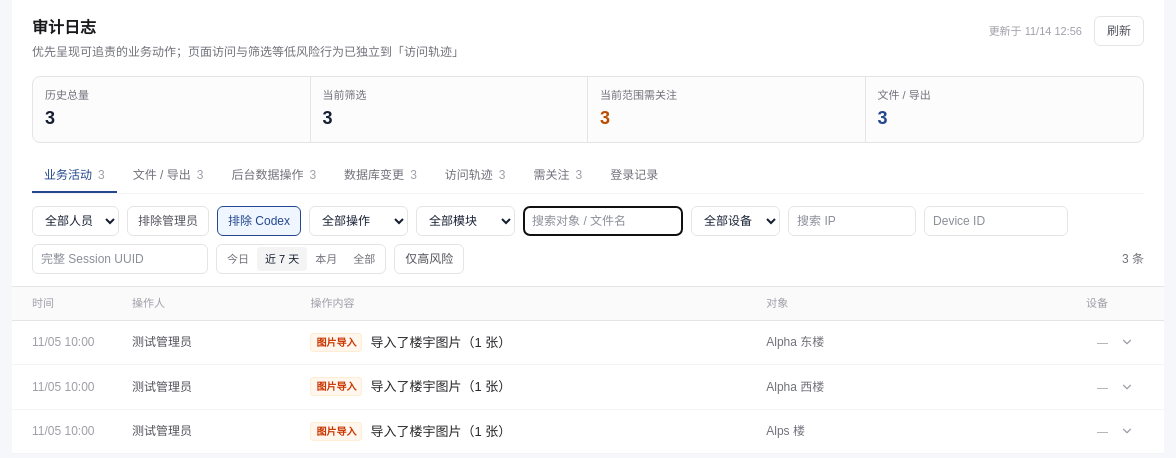
Test: coalesces rapid audit search edits and does not issue table reads during Chinese composition
Check: the text "Alpha 东楼" is shown, box [766,335,824,349]
Type "A" into the field with placeholder "搜索对象 / 文件名".
click(603, 220); type("A")  # box [523,206,683,236]
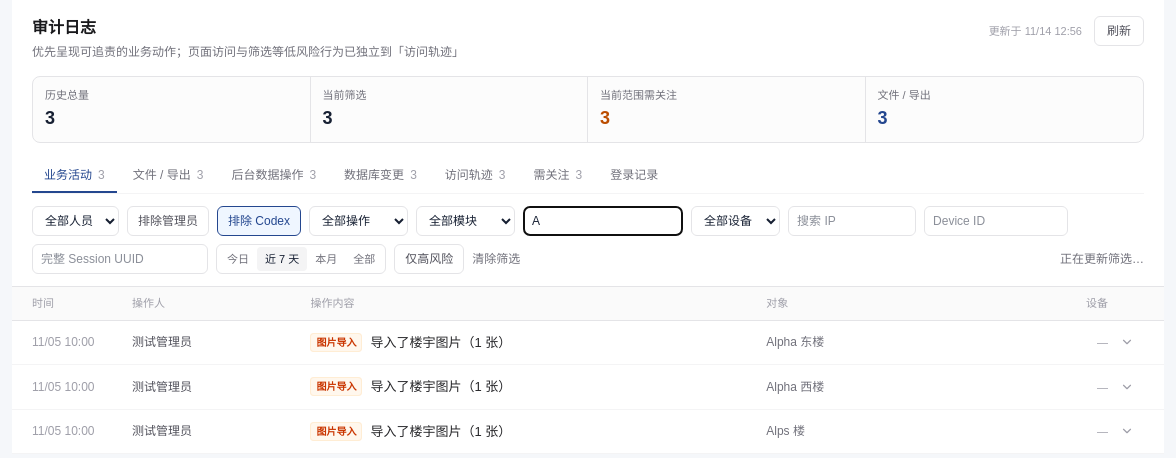
Replace the text in the field with placeholder "搜索对象 / 文件名" with "Al" at point(603, 220), box [523,206,683,236]
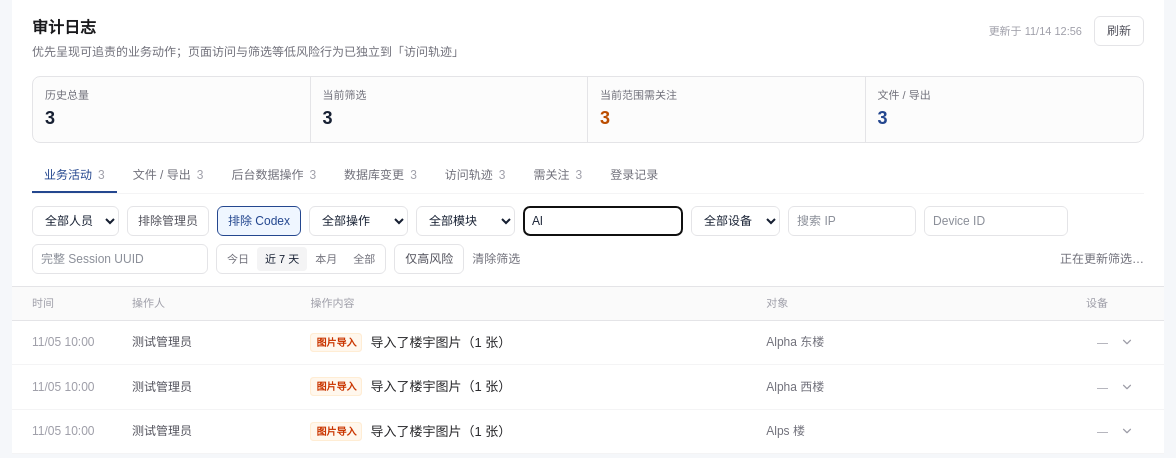
Replace the text in the field with placeholder "搜索对象 / 文件名" with "Alp" at point(603, 220), box [523,206,683,236]
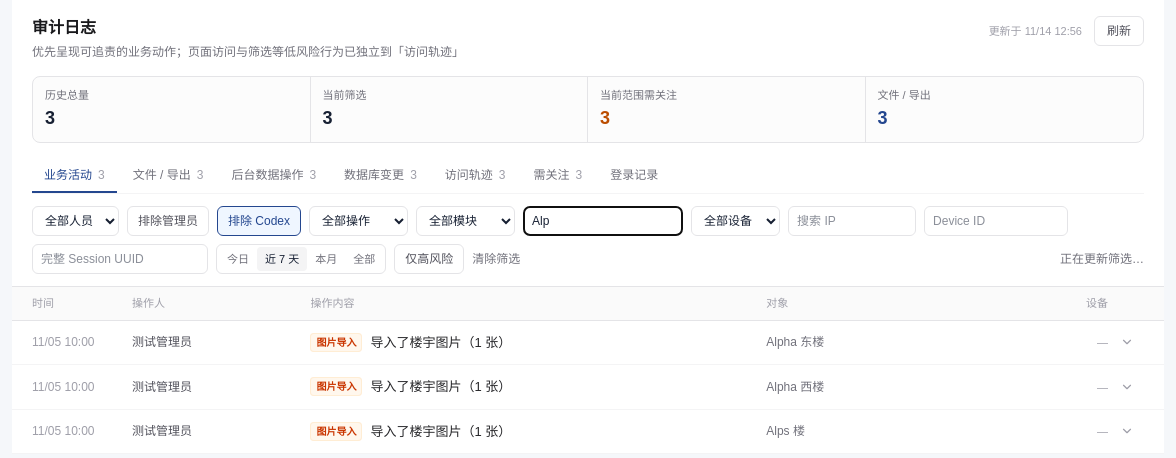
Replace the text in the field with placeholder "搜索对象 / 文件名" with "Alpha d" at point(603, 220), box [523,206,683,236]
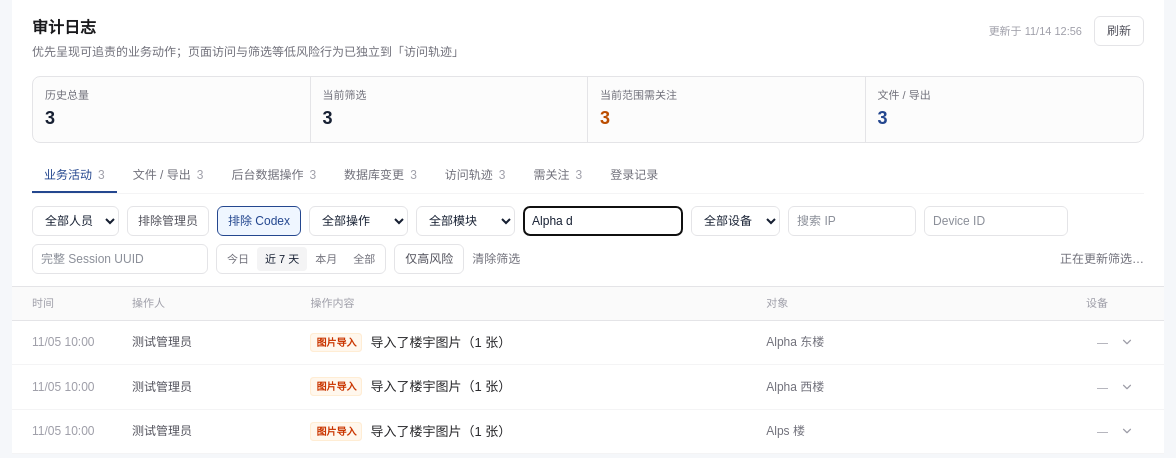
Replace the text in the field with placeholder "搜索对象 / 文件名" with "Alpha 东" at point(603, 220), box [523,206,683,236]
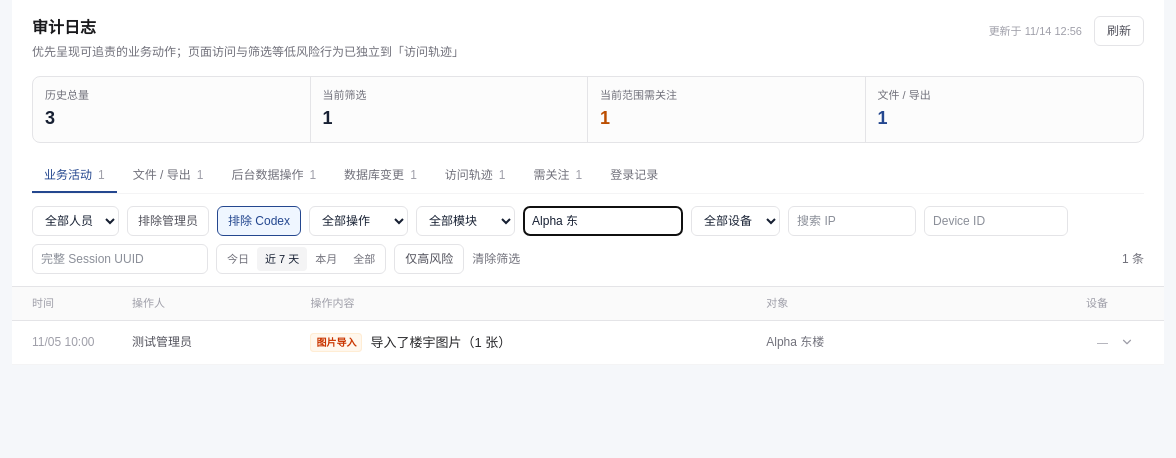
Check: the text "Alpha 东楼" is shown, box [766,335,824,349]
Check: the button "Alpha 西楼" is gone
